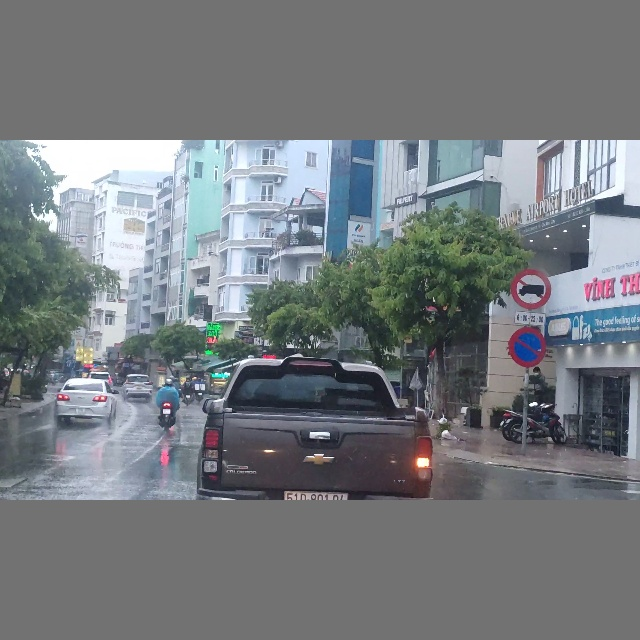P.106a*Xe tai: (512, 269, 552, 310)
P.131a: (508, 326, 546, 367)
